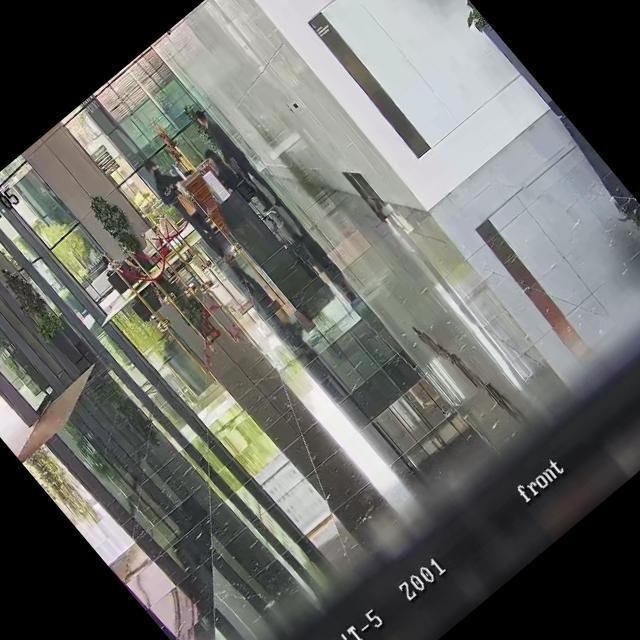person: (136, 150, 242, 268), (186, 100, 284, 212), (198, 144, 250, 202), (100, 239, 151, 292)
